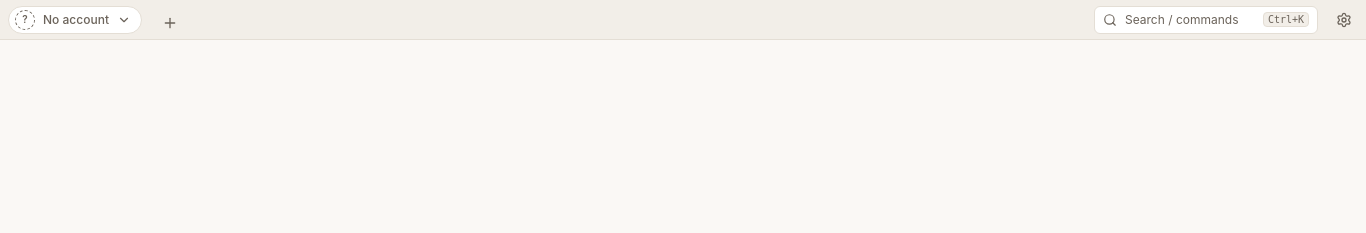
TopBar › offers the tabs closed in this session under Recent repositories
Click the button named "Open or create a repository".
click(170, 23)  # box [158,11,182,35]
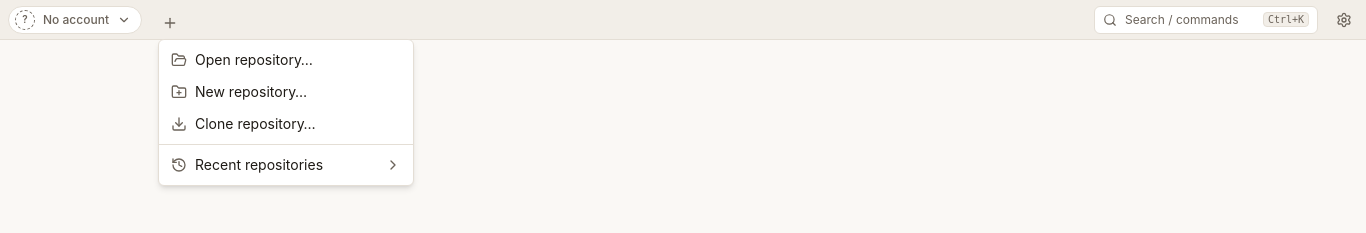
Click the menu item "Recent repositories".
click(286, 164)  # box [171,156,401,173]
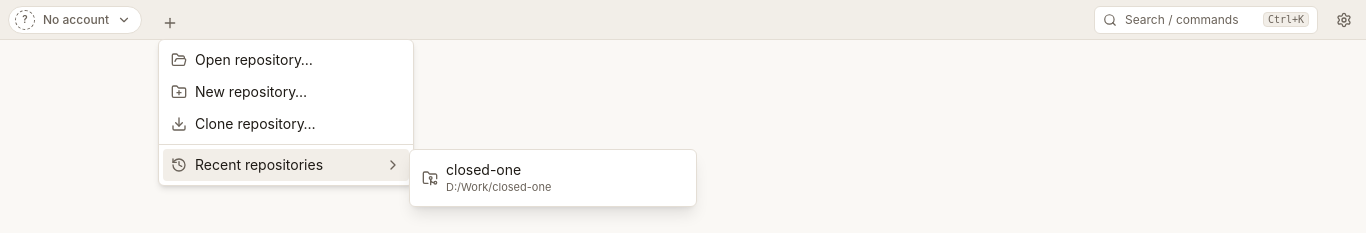
Check: the menu item "closed-one D:/Work/closed-one" is shown, box [422,161,551,194]
